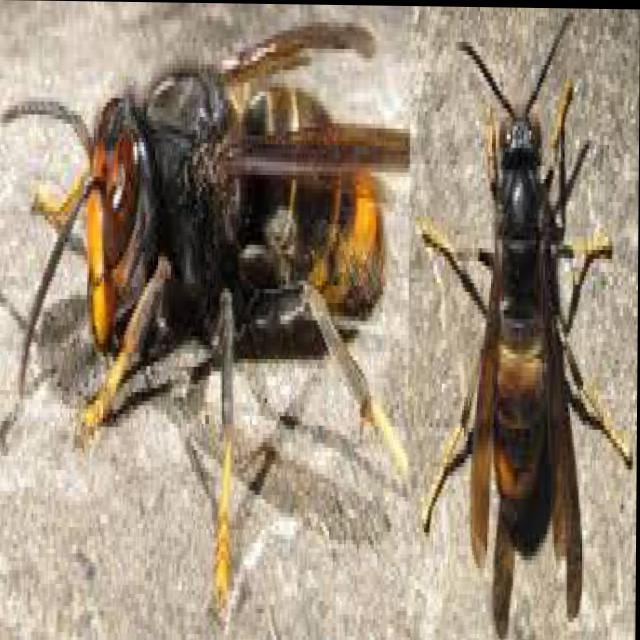Vespa Velutina: (0, 0, 411, 639), (405, 5, 638, 639)
